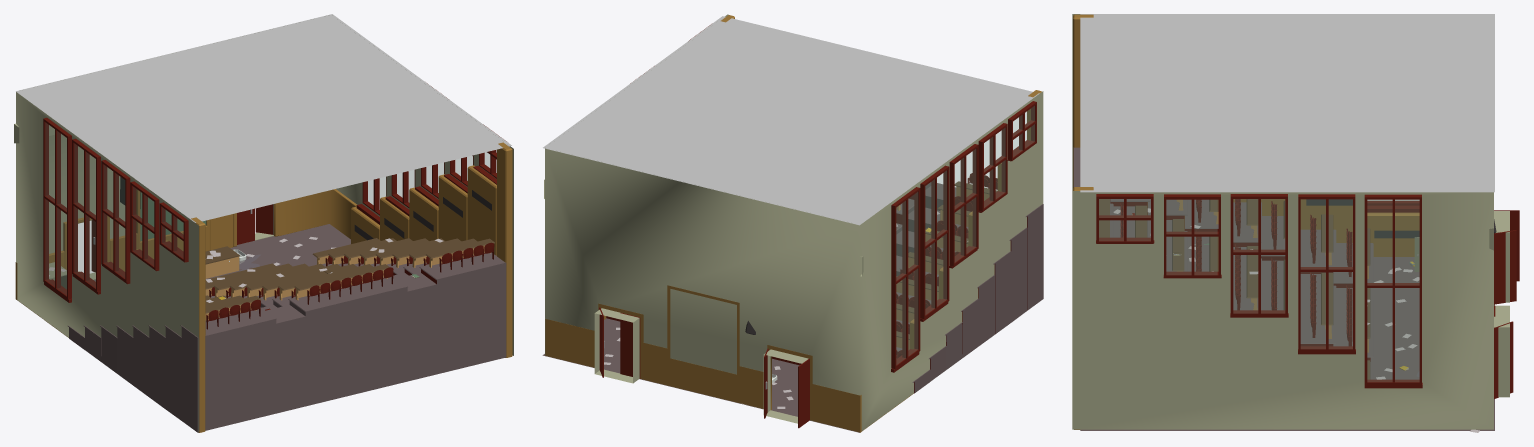
File: lecture_hall.glb
The picture shows the model from 3 angles, left to right: view 1: azimuth 30°, elevation 25°; view 2: azimuth 150°, elevation 25°; view 3: azimuth 270°, elevation 25°; orthographic projection. The views are drawn at different scales.
Visible parts, largest first — view 1: walls_01 - Default_0, walls_floor_0 (×2), walls_strucco_0, walls_dark_wood_0 (×3), walls_wood_0, walls_glass_0, walls_tables_0, walls_black_0, walls_screen_0, walls_papers_0; view 2: walls_strucco_0, walls_01 - Default_0, walls_dark_wood_0 (×2), walls_floor_0 (×2), walls_wood_0, walls_glass_0, walls_tables_0; view 3: walls_01 - Default_0, walls_strucco_0, walls_glass_0, walls_floor_0 (×2), walls_dark_wood_0 (×2), walls_wood_0, walls_black_0, walls_papers_0.
Part boxes in pixels (x1,y1,x2,y2): walls_01 - Default_0: [16, 14, 511, 222]; walls_floor_0 (×2): [68, 224, 506, 432]; walls_strucco_0: [14, 92, 513, 432]; walls_dark_wood_0 (×3): [43, 83, 506, 329]; walls_wood_0: [15, 142, 512, 432]; walls_glass_0: [45, 123, 496, 295]; walls_tables_0: [205, 245, 490, 320]; walls_black_0: [120, 177, 491, 240]; walls_screen_0: [140, 192, 419, 278]; walls_papers_0: [49, 237, 443, 302]; walls_strucco_0: [544, 14, 1043, 430]; walls_01 - Default_0: [543, 16, 1039, 225]; walls_dark_wood_0 (×2): [599, 25, 1036, 428]; walls_floor_0 (×2): [542, 181, 1043, 432]; walls_wood_0: [545, 15, 1041, 432]; walls_glass_0: [896, 106, 1034, 364]; walls_tables_0: [896, 186, 989, 349]; walls_01 - Default_0: [1080, 14, 1494, 192]; walls_strucco_0: [1072, 14, 1509, 429]; walls_glass_0: [1099, 199, 1419, 381]; walls_floor_0 (×2): [1073, 147, 1494, 430]; walls_dark_wood_0 (×2): [1096, 194, 1519, 398]; walls_wood_0: [1073, 14, 1419, 429]; walls_black_0: [1306, 199, 1496, 238]; walls_papers_0: [1113, 208, 1479, 432].
Size of the model in its own units: 323 by 197 by 334.
